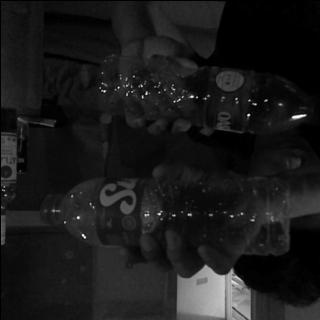plastic_bottles: (38, 172, 301, 248), (95, 55, 313, 134)
